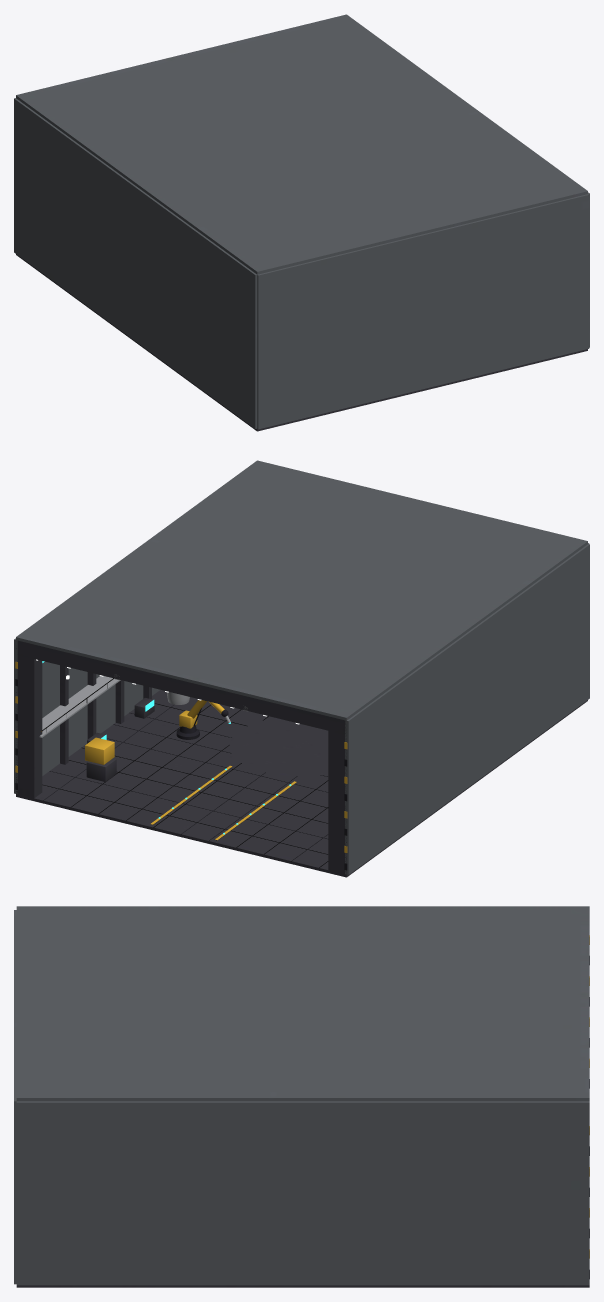
Rendered from game-hangar.glb.
3 views of the same model, one above another, from view 1: azimuth 30°, elevation 25°; view 2: azimuth 150°, elevation 25°; view 3: azimuth 270°, elevation 25° (orthographic). The views are drawn at different scales.
Parts seen in each view (by area): view 1: hangar; view 2: hangar; view 3: hangar.
Boxes of the visible parts, left/top/right/bottom form: hangar: left=14, top=14, right=589, bottom=431; hangar: left=14, top=460, right=589, bottom=877; hangar: left=14, top=906, right=589, bottom=1287.
Size of the model in its own units: 72.8 by 33.2 by 91.45.
3 materials, 1 textured.
